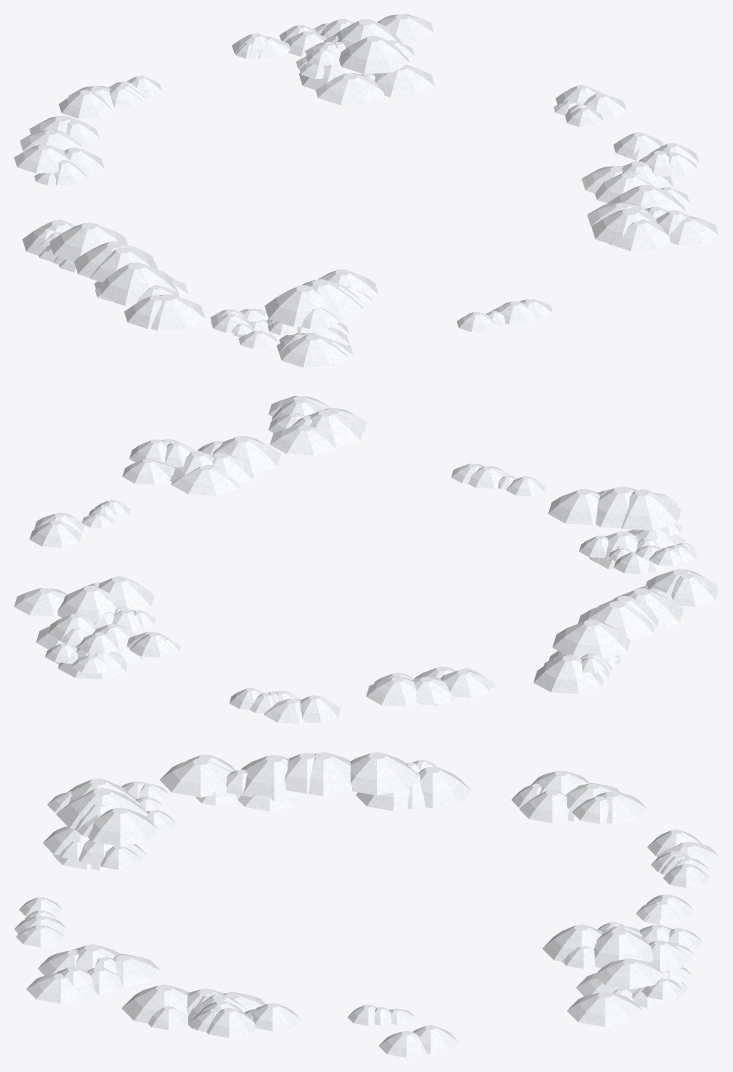
Rendered from panorama_salinas.obj.
3 views of the same model, one above another, from view 1: azimuth 30°, elevation 25°; view 2: azimuth 150°, elevation 25°; view 3: azimuth 270°, elevation 25° (orthographic). The views are drawn at different scales.
Visible parts, largest first — view 1: panorama_salinas; view 2: panorama_salinas; view 3: panorama_salinas.
Boxes of the visible parts, <box> form: panorama_salinas: <box>14,14,718,367</box>; panorama_salinas: <box>14,396,718,723</box>; panorama_salinas: <box>14,752,718,1057</box>.
Bounding box in the file's own units: 420 × 48.9 × 413.
1 material, 1 textured.
